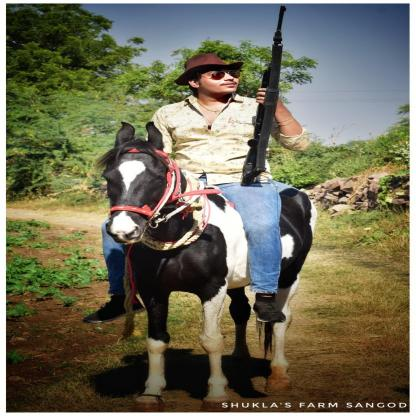rifle: (239, 3, 292, 187)
